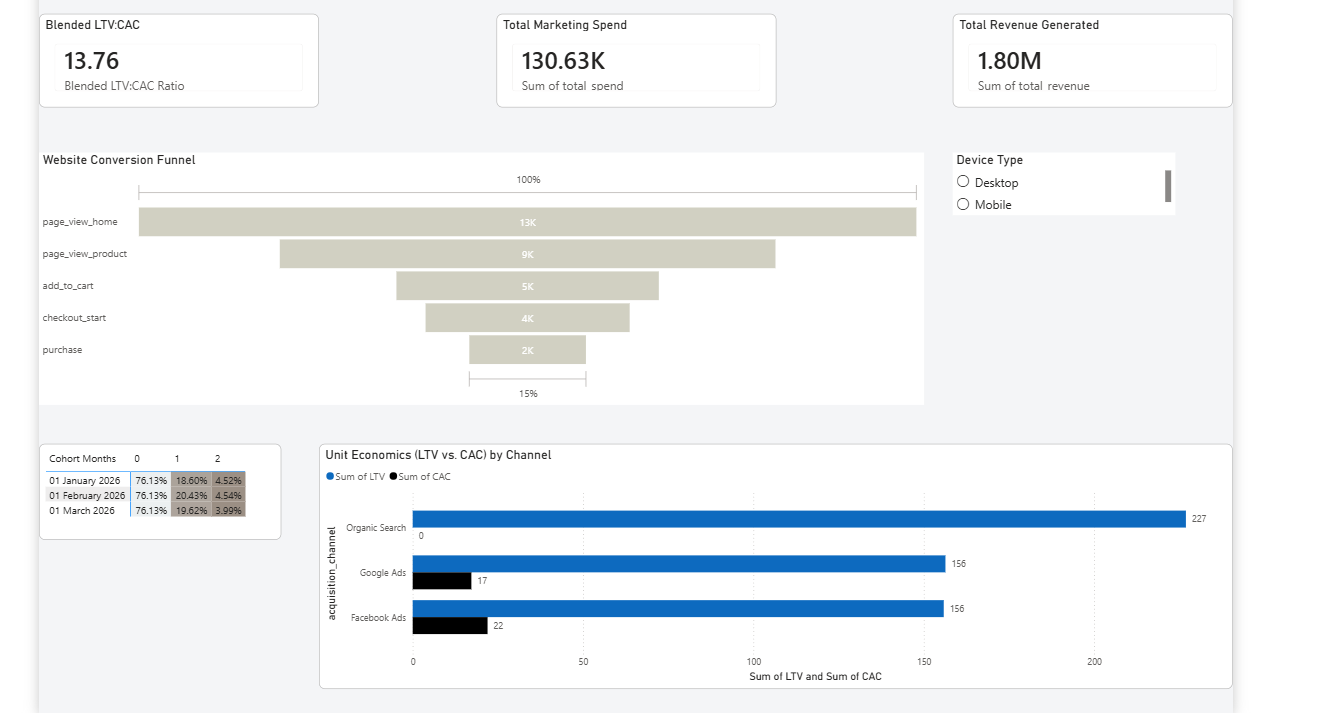

This screenshot's page, from the dashboard's own definition file:
{"tool":"powerbi","page":{"name":"Page 1","canvas":[1600,1000],"ordinal":0},"visuals":[{"type":"cardVisual","title":"Blended LTV:CAC","fields":{"Data":["_Key_Measures_Table.Blended LTV:CAC Ratio"]},"box":[0,58.6,375.3,125.7],"z":0},{"type":"cardVisual","title":"Total Marketing Spend","fields":{"Data":["Sum(vw_unit_economics.total_spend)"]},"box":[612.4,58.6,375.3,125.7],"z":1000},{"type":"cardVisual","title":"Total Revenue Generated","fields":{"Data":["Sum(vw_unit_economics.total_revenue)"]},"box":[1224.7,58.6,375.3,125.7],"z":2000},{"type":"funnel","title":"Website Conversion Funnel","fields":{"Category":["vw_user_journey.current_step"],"Y":["_Key_Measures_Table.Total Sessions"]},"box":[0,244.6,1186.3,338.5],"z":3000},{"type":"listSlicer","title":"Device Type","fields":{"Values":["vw_user_journey.device_type"]},"box":[1224.9,244.6,298.3,83.8],"z":4000},{"type":"pivotTable","fields":{"Rows":["vw_cohort_sizes.cohort_month"],"Columns":["vw_cohort_retention.month_number"],"Values":["_Key_Measures_Table.Retention %"]},"box":[0,635.1,325.1,129],"z":5000},{"type":"clusteredBarChart","title":"Unit Economics (LTV vs. CAC) by Channel","fields":{"Category":["vw_unit_economics.acquisition_channel"],"Y":["Sum(vw_unit_economics.LTV)","Sum(vw_unit_economics.CAC)"]},"box":[375.3,635.1,1224.9,328.4],"z":5001}]}

Visuals, with their boxes on the page's 1600x1000 design canvas (x1, y1, x2, y2). These are canvas units, not pixel positions in the 1318x713 screenshot, which may show the page scaled, cropped or inside an application window:
"Blended LTV:CAC" cardVisual: box(0, 59, 375, 184)
"Total Marketing Spend" cardVisual: box(612, 59, 988, 184)
"Total Revenue Generated" cardVisual: box(1225, 59, 1600, 184)
"Website Conversion Funnel" funnel: box(0, 245, 1186, 583)
"Device Type" listSlicer: box(1225, 245, 1523, 328)
pivotTable - vw_cohort_sizes.cohort_month x vw_cohort_retention.month_number: box(0, 635, 325, 764)
"Unit Economics (LTV vs. CAC) by Channel" clusteredBarChart: box(375, 635, 1600, 964)
